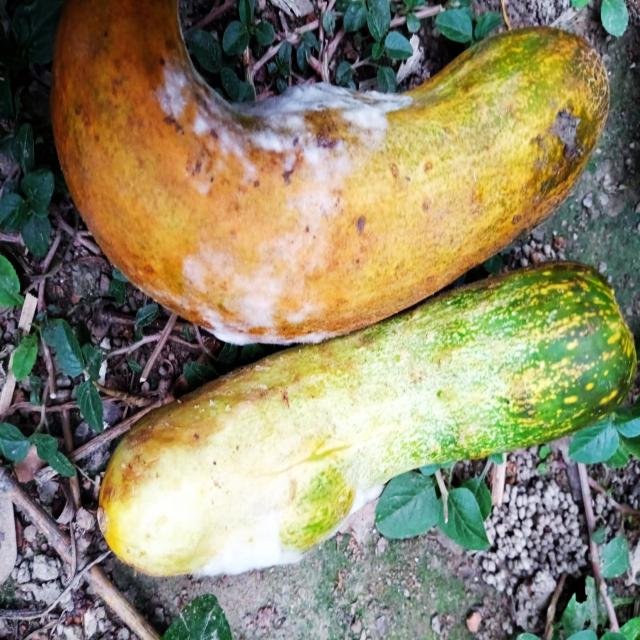Pythium-Fruit-Rot: (148, 61, 408, 347), (198, 476, 390, 580)
